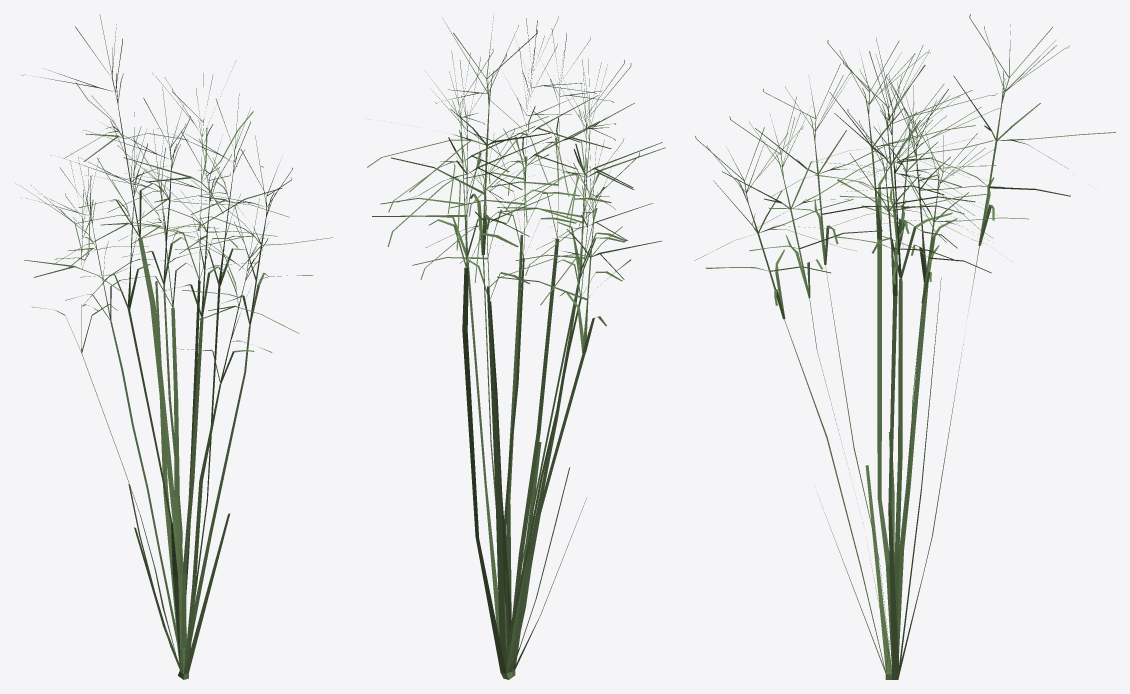
Rendered from haar-pfriemengras_stipa_capillata.glb.
3 renders of one model, left to right at view 1: azimuth 30°, elevation 25°; view 2: azimuth 150°, elevation 25°; view 3: azimuth 270°, elevation 25°, orthographic. The views are drawn at different scales.
Visible parts, largest first — view 1: Object_2; view 2: Object_2; view 3: Object_2.
Part boxes in pixels (left/top/right/bottom): Object_2: left=15, top=14, right=332, bottom=679; Object_2: left=366, top=14, right=665, bottom=679; Object_2: left=694, top=14, right=1115, bottom=679.
Bounding box in the file's own units: 3.54 × 8.1 × 4.77.
